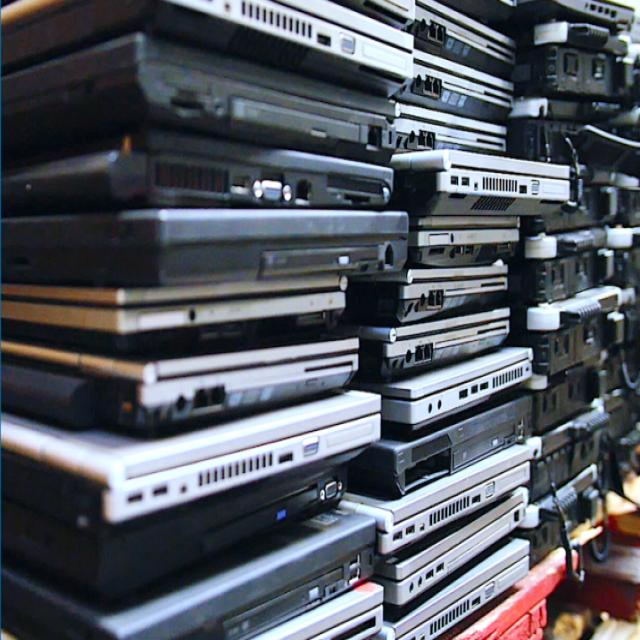Hazard: (8, 6, 640, 640)
